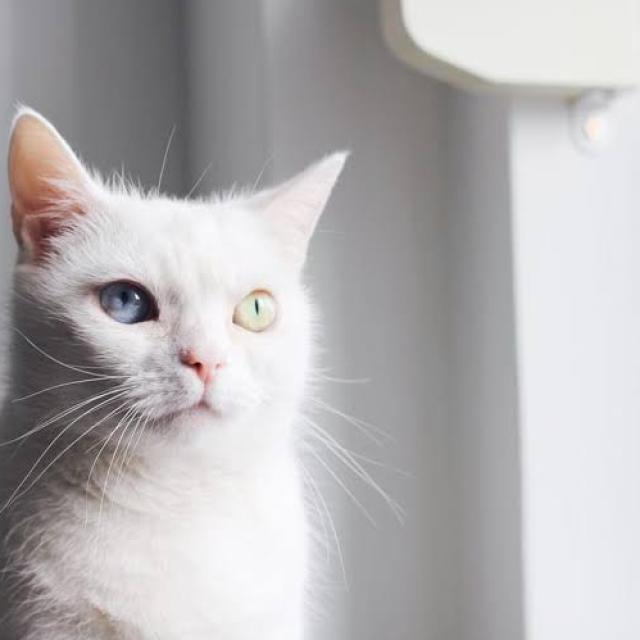Khao Manee: (0, 104, 354, 640)
